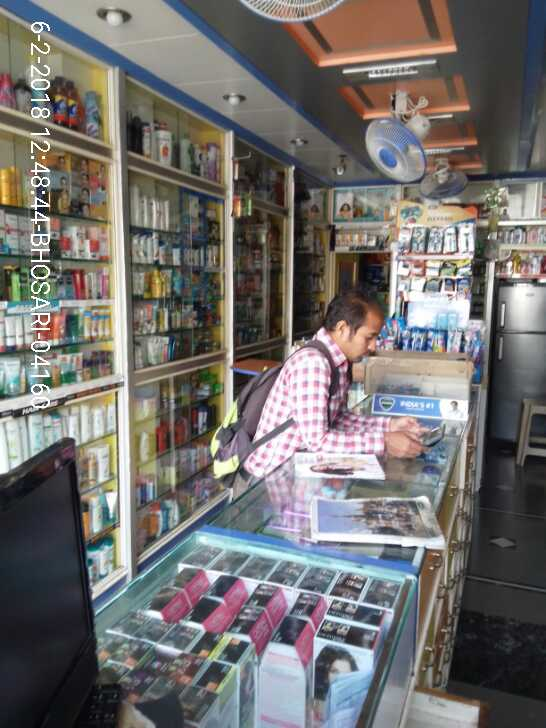oralcare: (375, 321, 493, 357)
vicks: (378, 381, 424, 399)
